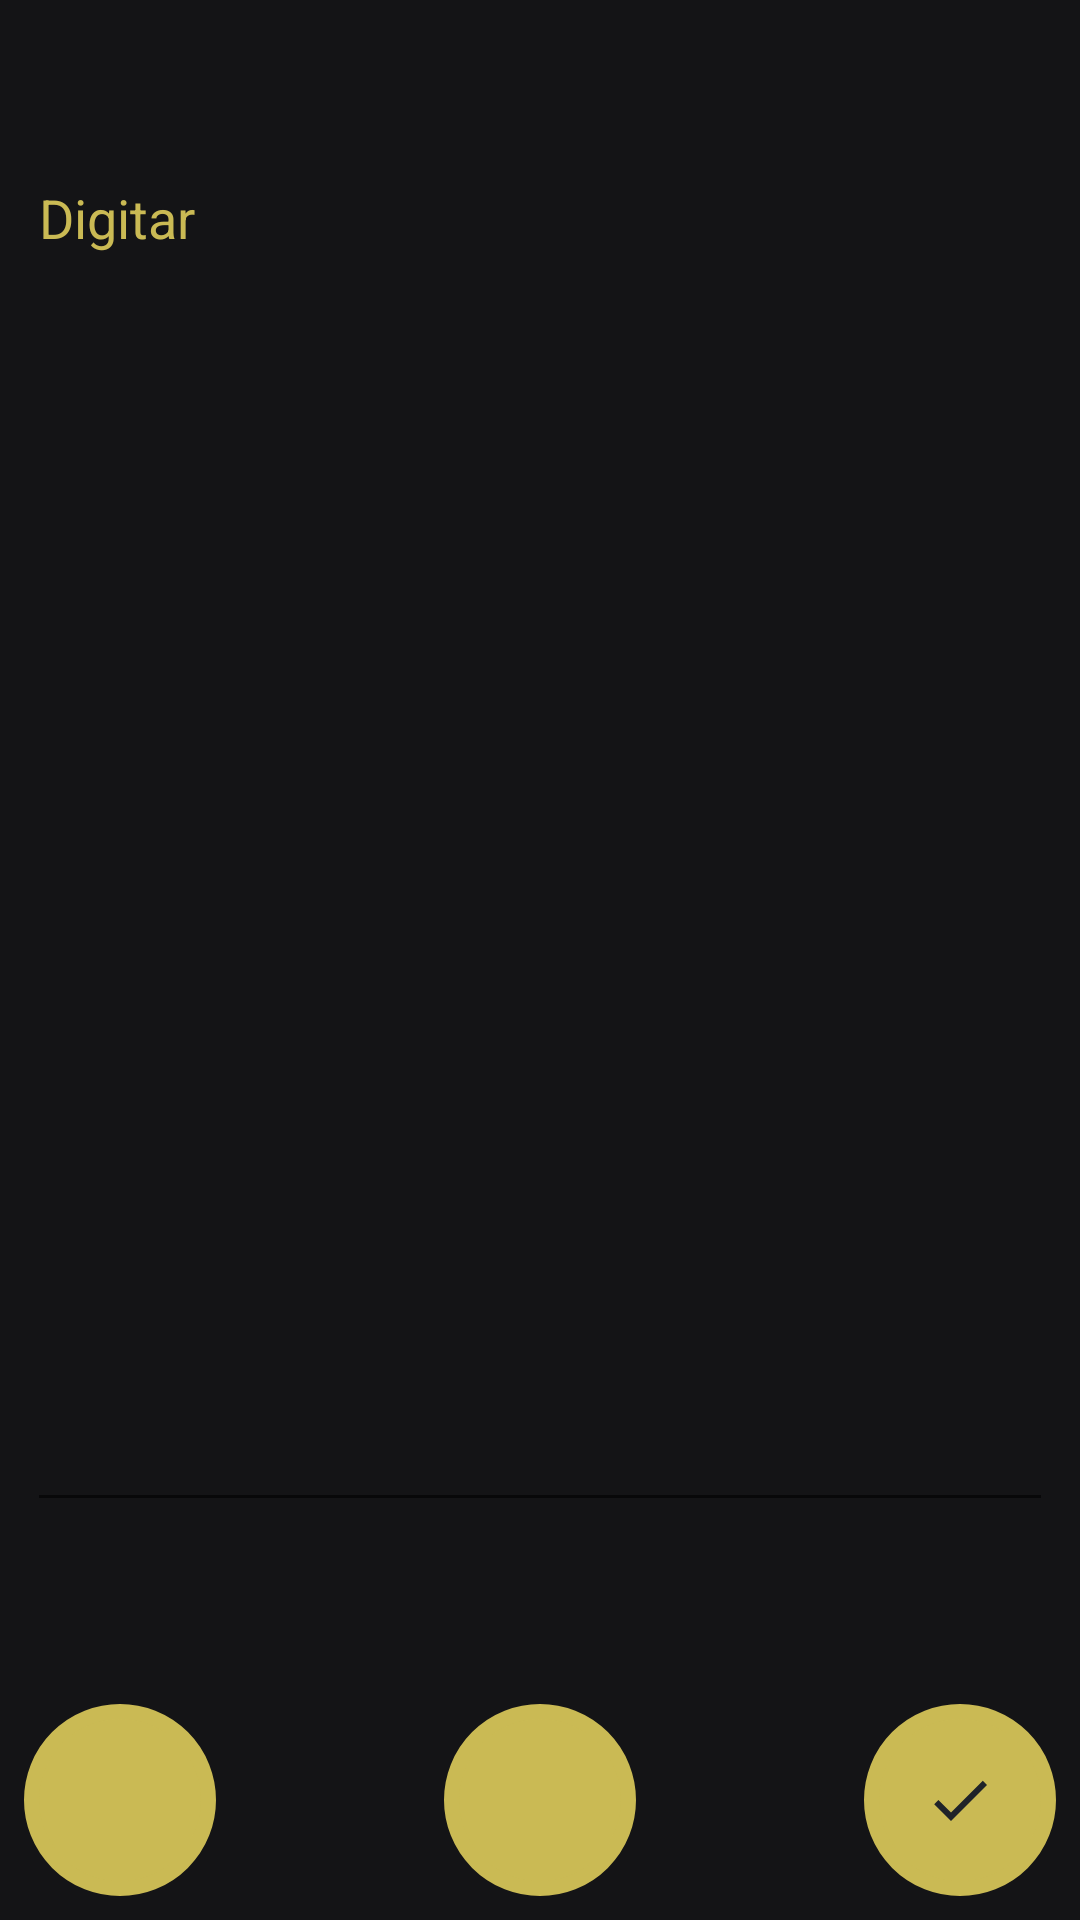

Named icons in this screenshot (1080*1920) and their centers, (x,y):
fuck concluir: (960,1800)
